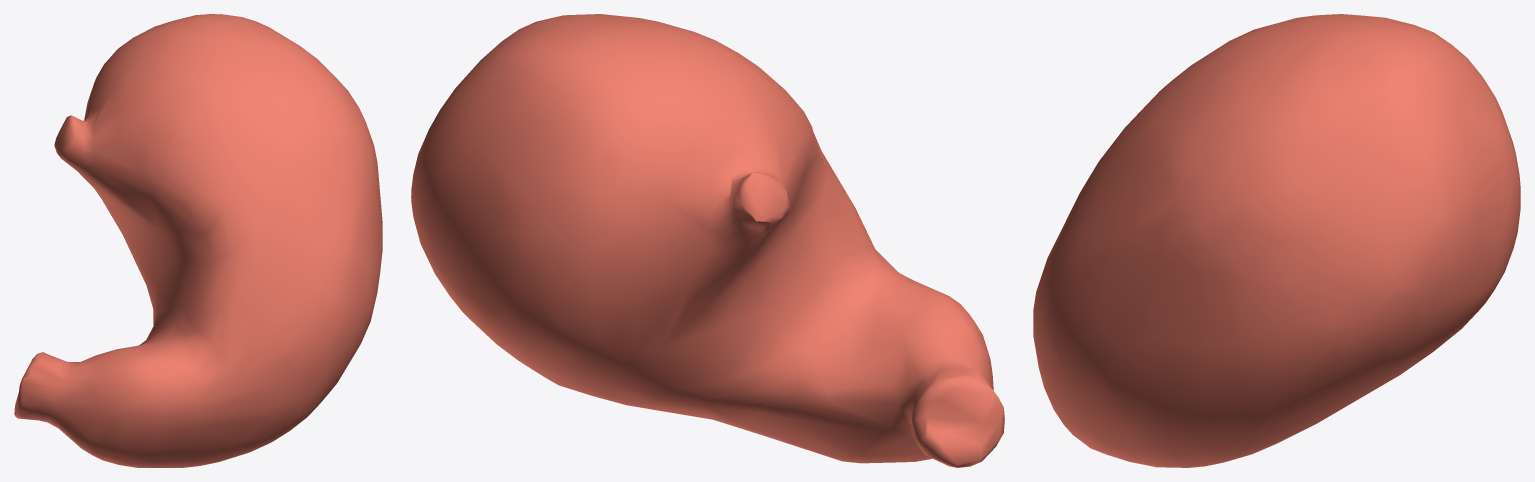
The model's file is stomach.glb.
3 renders of one model, left to right at view 1: azimuth 30°, elevation 25°; view 2: azimuth 150°, elevation 25°; view 3: azimuth 270°, elevation 25°, orthographic. The views are drawn at different scales.
Parts seen in each view (by area): view 1: Stomach; view 2: Stomach; view 3: Stomach.
Boxes of the visible parts, left/top/right/bottom form: Stomach: left=14, top=14, right=382, bottom=467; Stomach: left=411, top=14, right=1004, bottom=467; Stomach: left=1033, top=14, right=1520, bottom=467.
Bounding box in the file's own units: 2 × 1.74 × 1.68.
